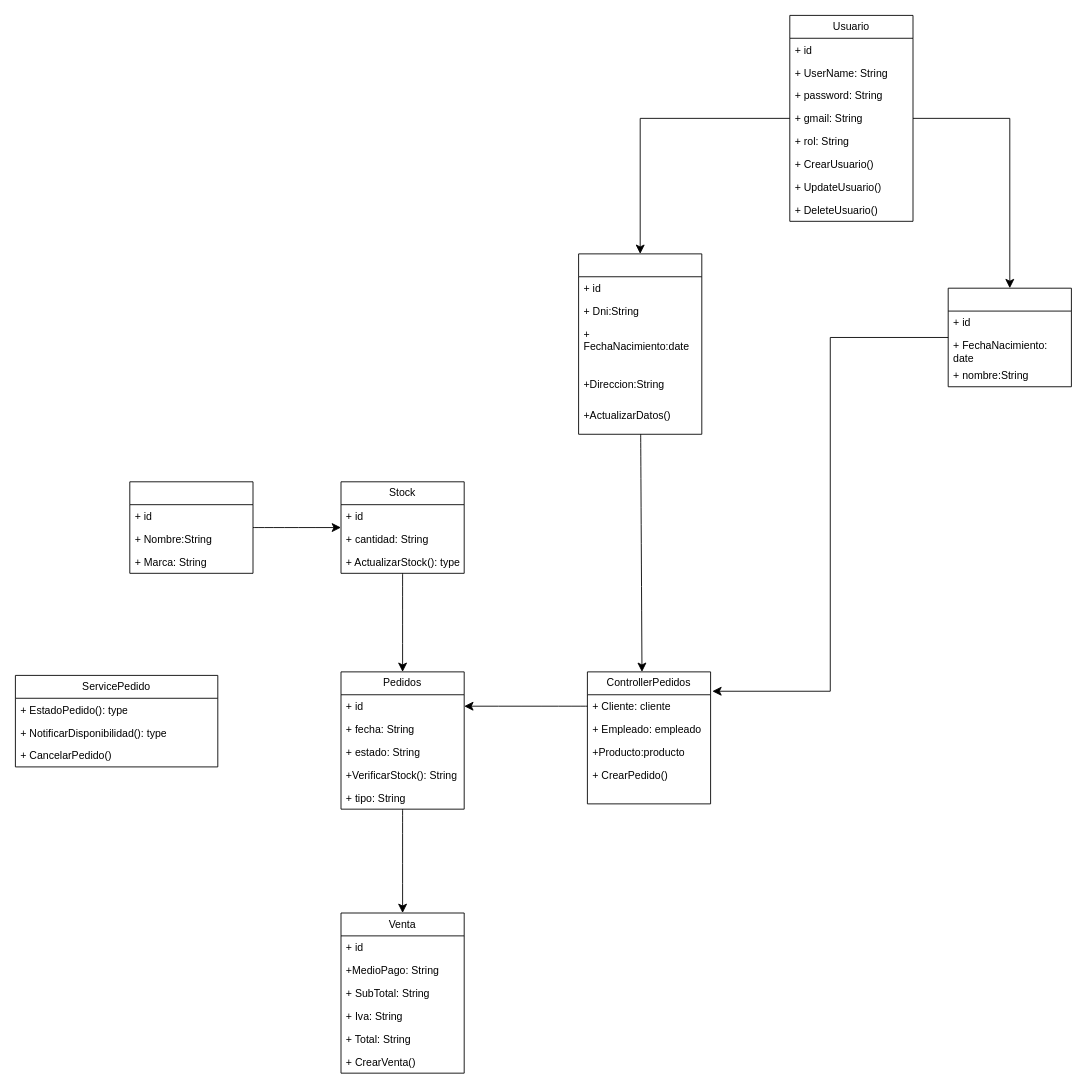
The diagram is 1087 pixels wide and 1091 high, and some of its shapes have lost their labels. Here are the shapes that lost their labels. From the top down, the box of each, then its label:
(578, 253, 702, 434): Cliente
(947, 287, 1071, 387): Empleado
(129, 481, 253, 573): Productos
